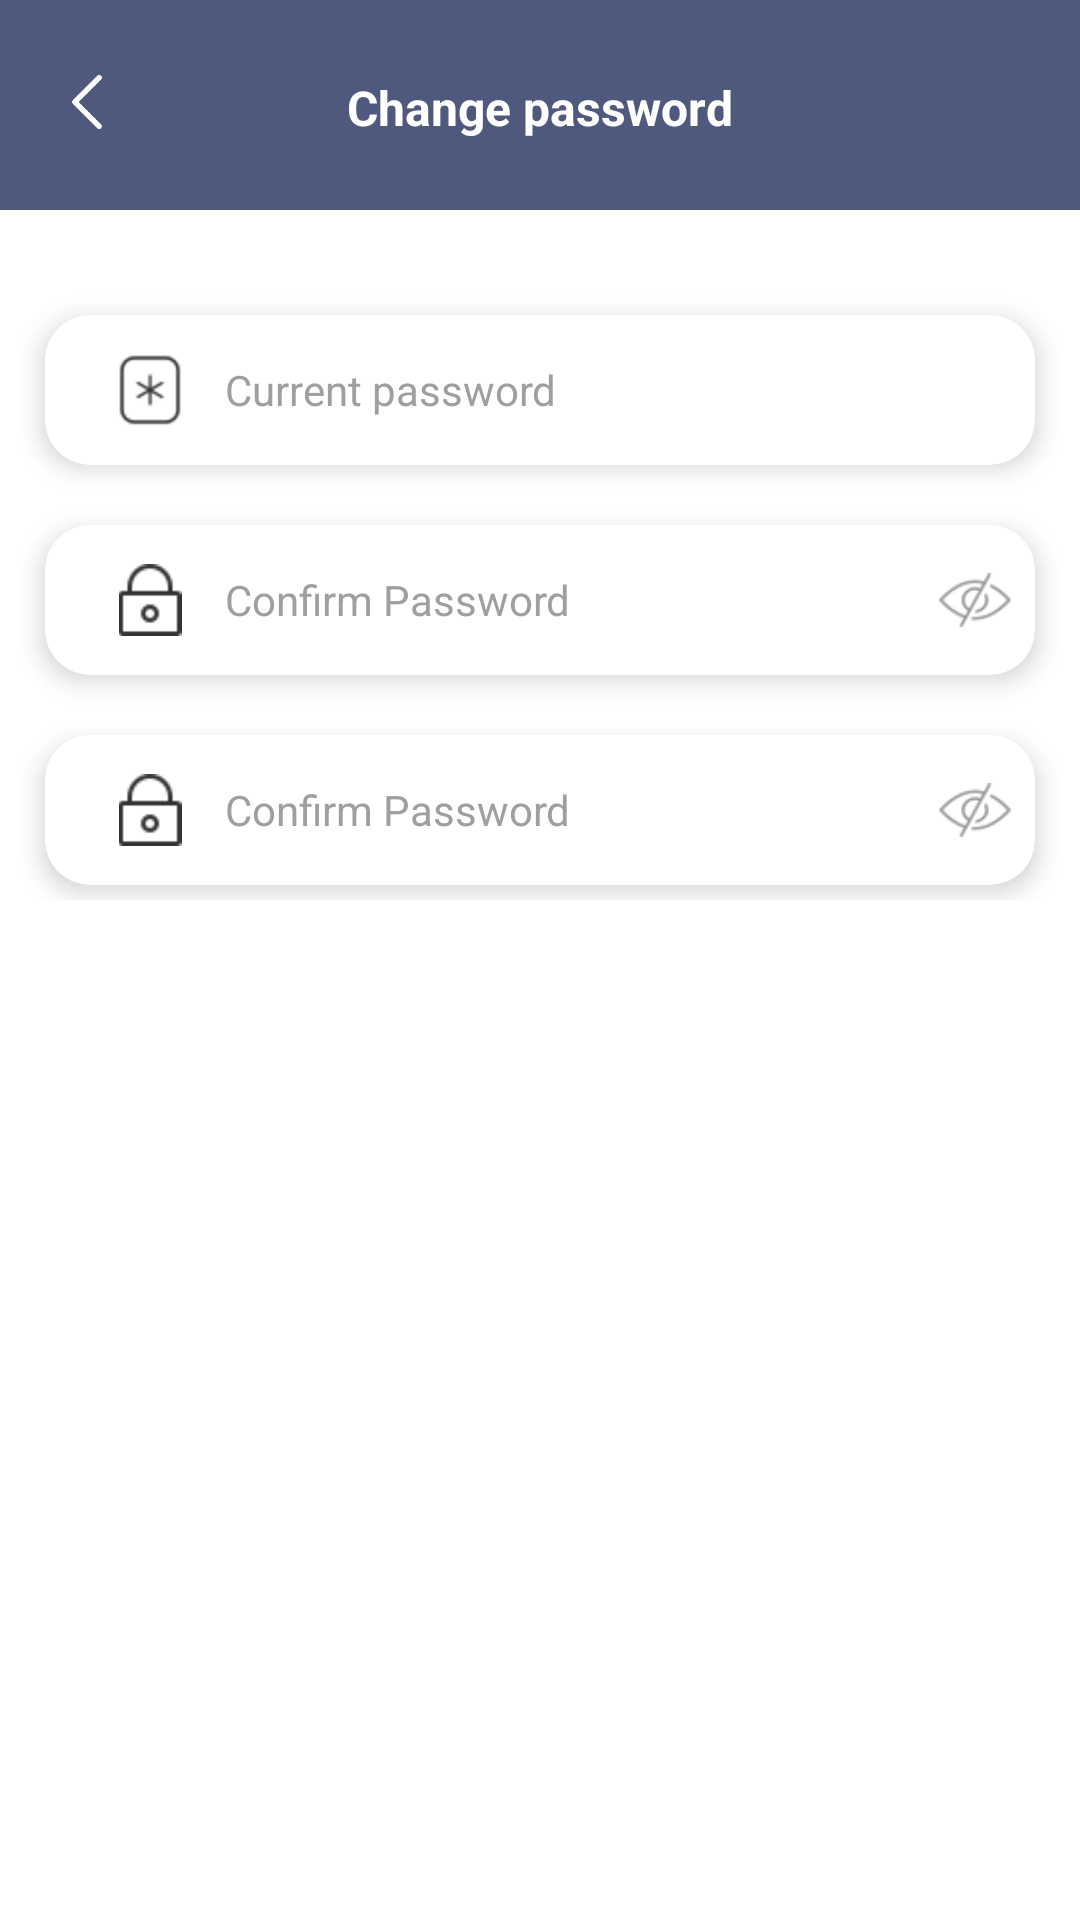

Where icons sit on this 1080px×1920px app screen, as detection(x1, y1, x2, y2):
back: detection(72, 75, 102, 129)
hide: detection(939, 573, 1011, 627), detection(939, 783, 1011, 837)
